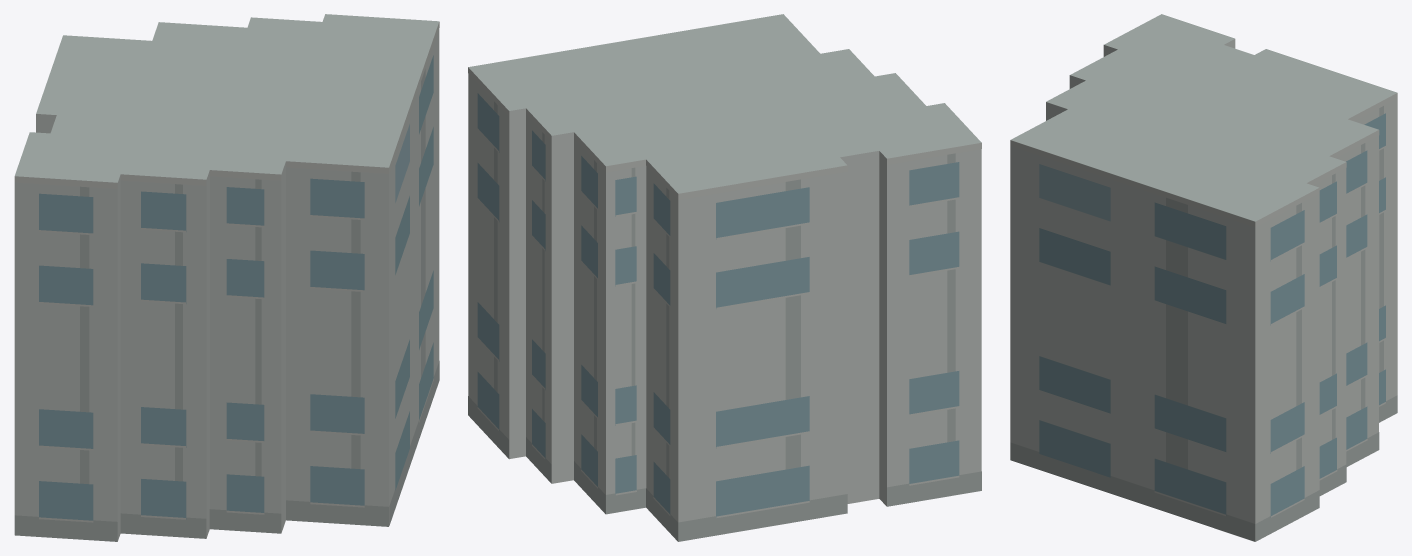
Rendered from survey-upis-32926431.glb.
The picture shows the model from 3 angles, left to right: view 1: azimuth 30°, elevation 25°; view 2: azimuth 150°, elevation 25°; view 3: azimuth 270°, elevation 25°; orthographic projection. The views are drawn at different scales.
Parts seen in each view (by area): view 1: survey-upis-32926431.tmp; view 2: survey-upis-32926431.tmp; view 3: survey-upis-32926431.tmp.
Part boxes in pixels (left/top/right/bottom): survey-upis-32926431.tmp: left=14, top=14, right=439, bottom=541; survey-upis-32926431.tmp: left=468, top=14, right=981, bottom=541; survey-upis-32926431.tmp: left=1010, top=14, right=1397, bottom=541.
Bounding box in the file's own units: 19.07 × 13.7 × 15.03.
